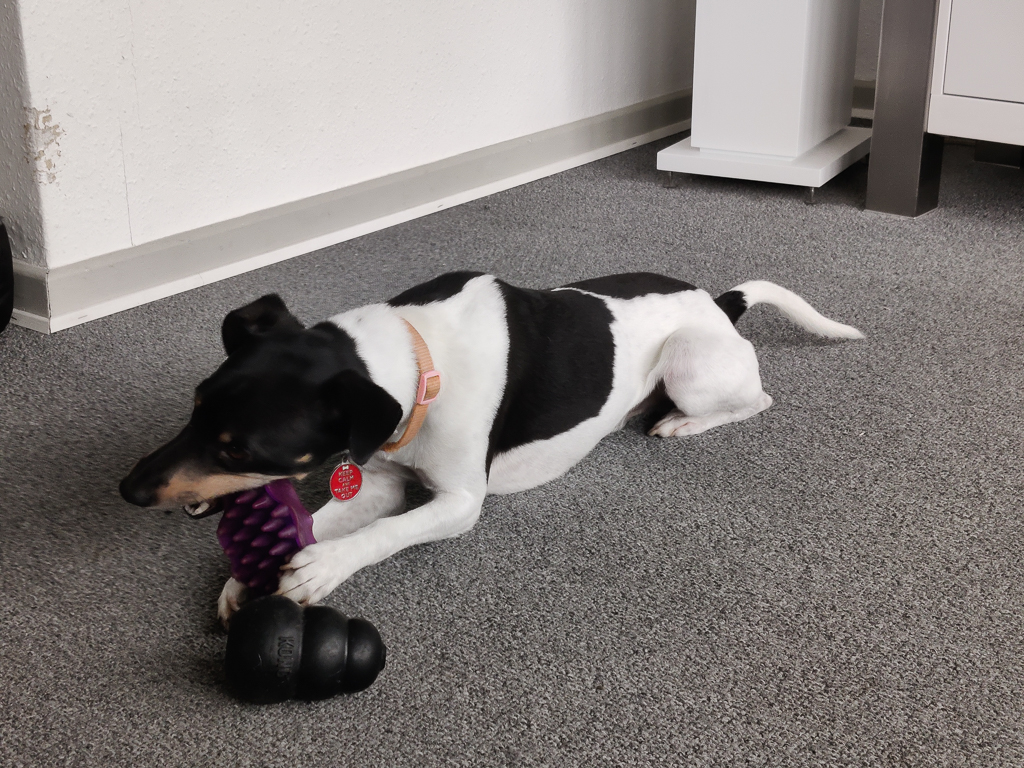Dog: (109, 255, 894, 628)
